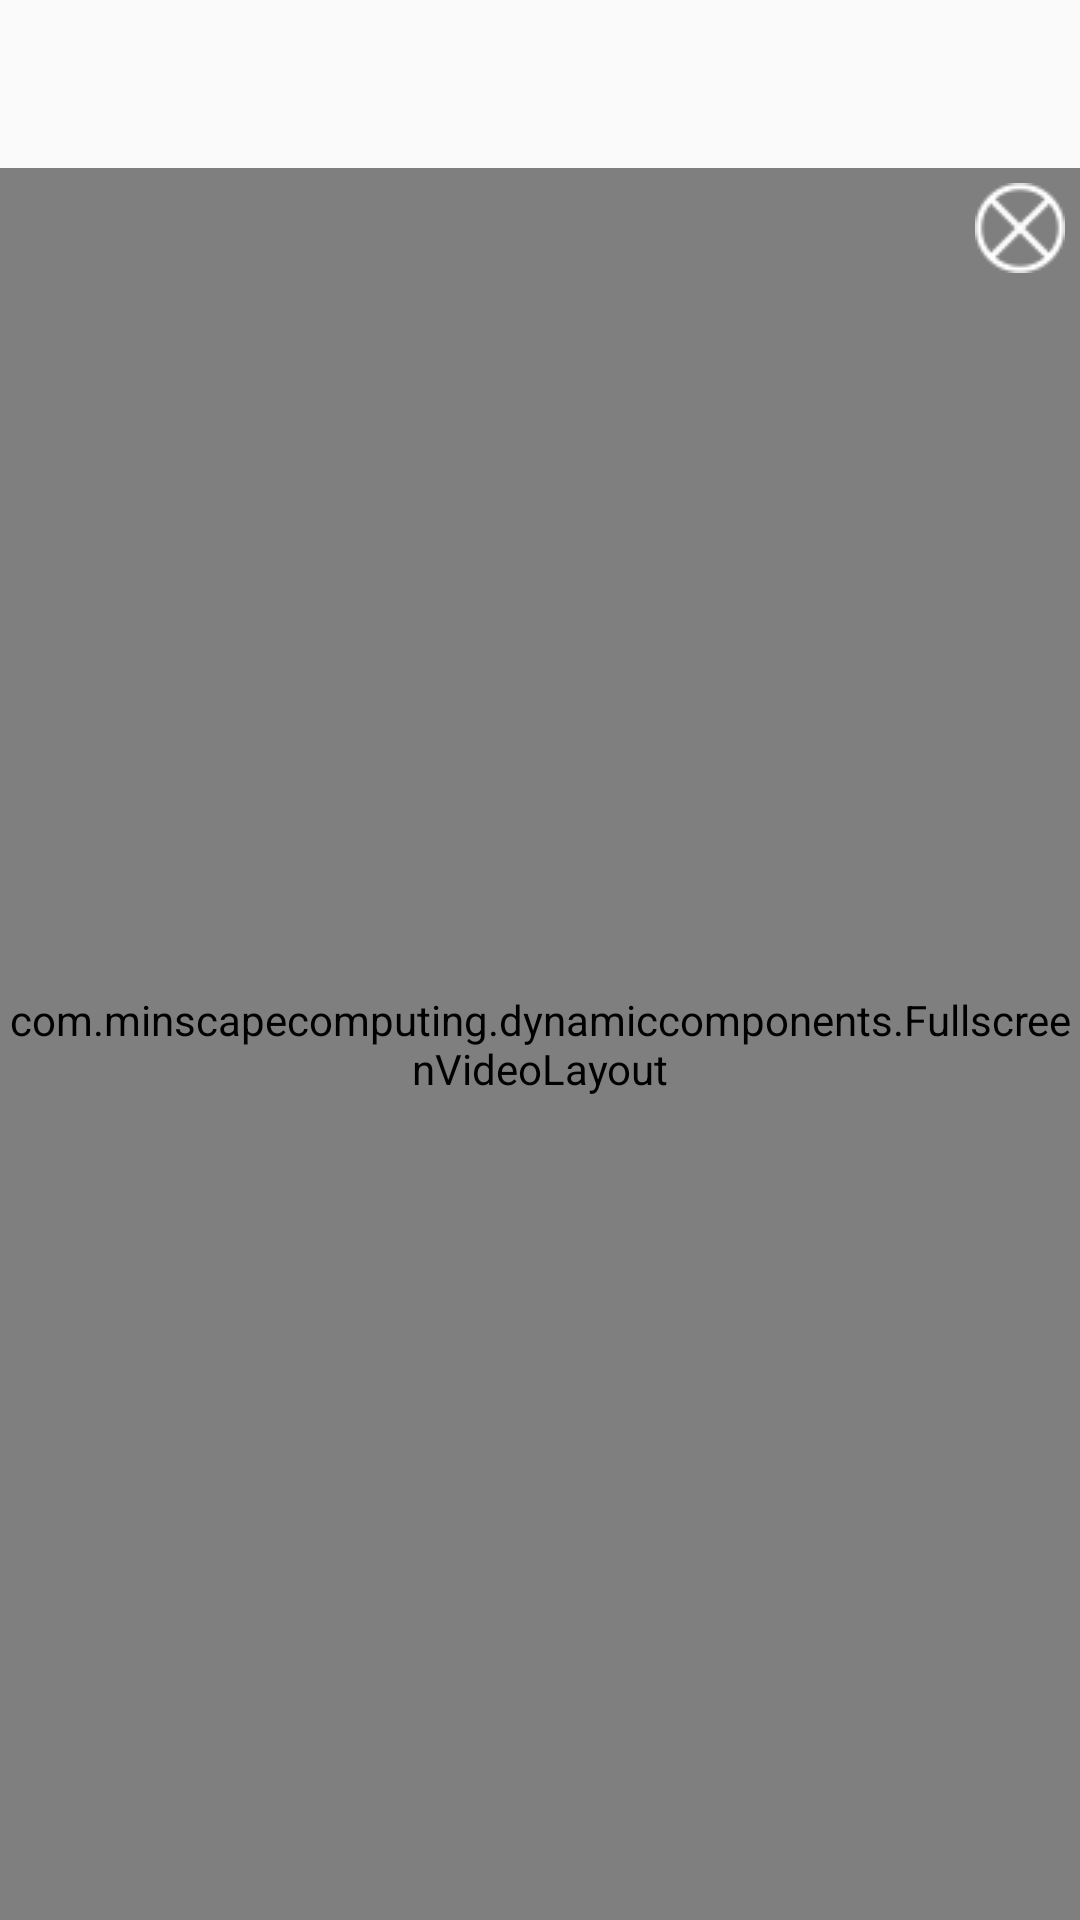

Screen size 1080w x 1920h. Icon name, then its box in pixels as (x1, y1, x2, y2):
close: (975, 183, 1065, 273)
